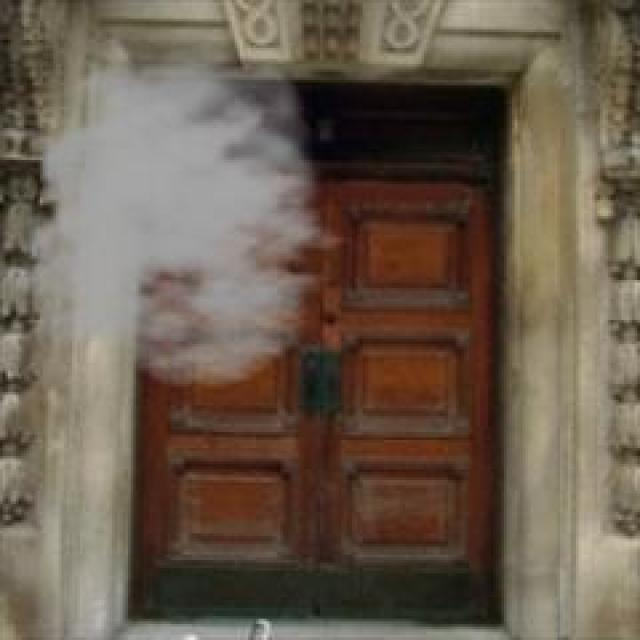Smoke: (39, 34, 328, 402), (182, 45, 334, 209), (154, 220, 311, 378), (7, 178, 151, 336), (42, 62, 170, 176)
